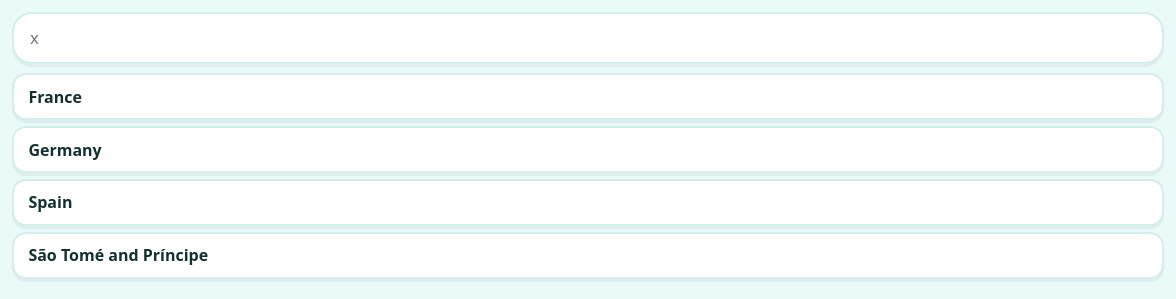
Test: ChallengeSearchList › shows a no-match message when nothing matches
Type "zzz" into the field labelled "x". click: (588, 38)
box: [12, 12, 1164, 64]
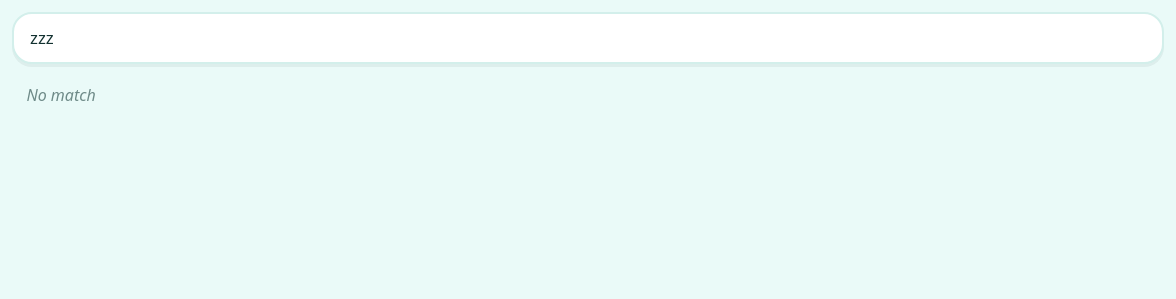
Check: the list item "No match" is shown, box [26, 84, 96, 106]
